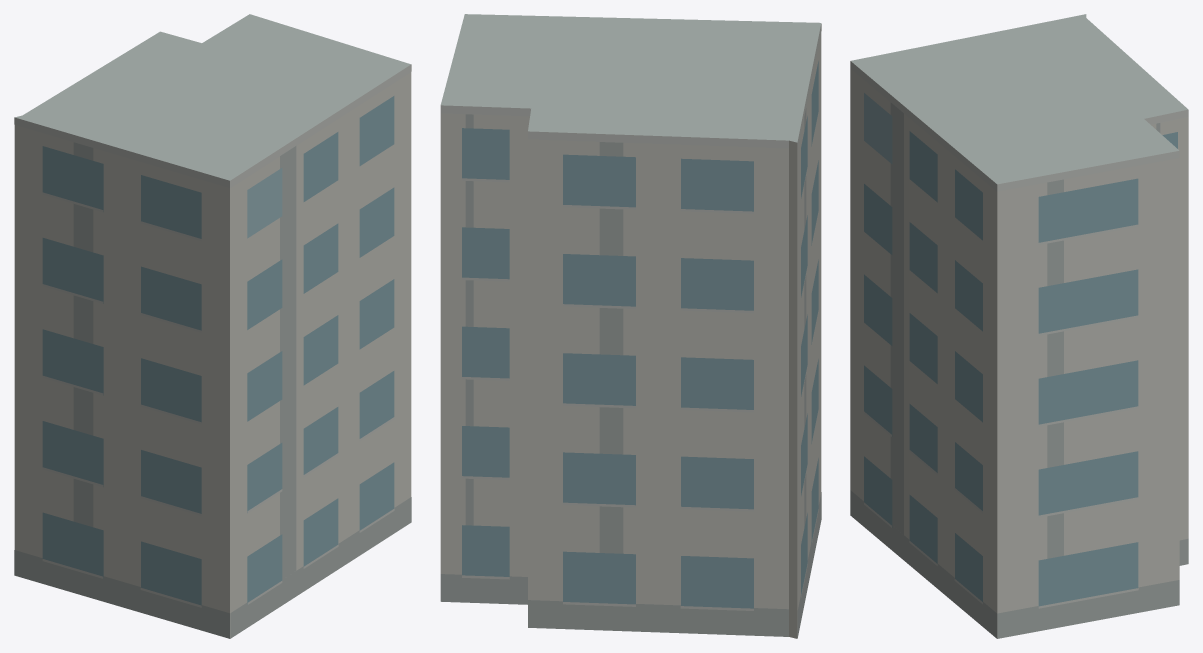
File: survey-upis-32861430.glb
3 views of the same model, side by side, from view 1: azimuth 30°, elevation 25°; view 2: azimuth 150°, elevation 25°; view 3: azimuth 270°, elevation 25° (orthographic). The views are drawn at different scales.
Visible parts, largest first — view 1: survey-upis-32861430.tmp; view 2: survey-upis-32861430.tmp; view 3: survey-upis-32861430.tmp.
Part boxes in pixels (left/top/right/bottom): survey-upis-32861430.tmp: left=14, top=14, right=411, bottom=638; survey-upis-32861430.tmp: left=440, top=14, right=821, bottom=638; survey-upis-32861430.tmp: left=850, top=14, right=1188, bottom=638.
Bounding box in the file's own units: 12.11 × 15.05 × 10.16.
